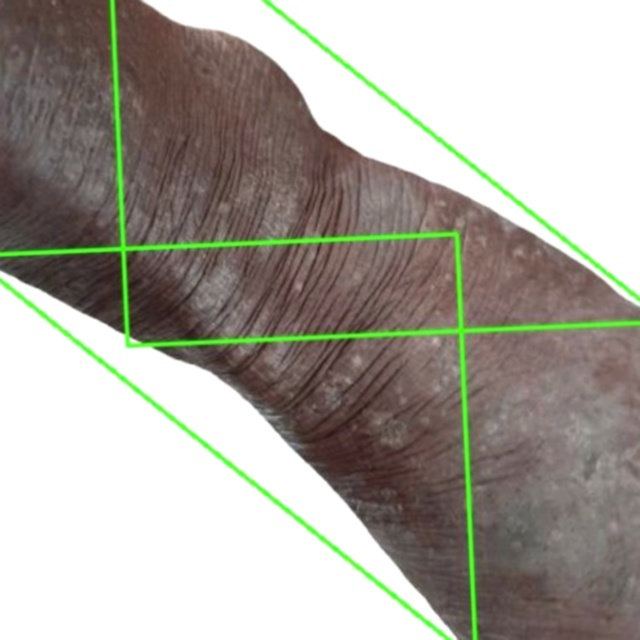Contact Dermatitis: (0, 0, 639, 639), (0, 233, 475, 639), (112, 0, 639, 345)
